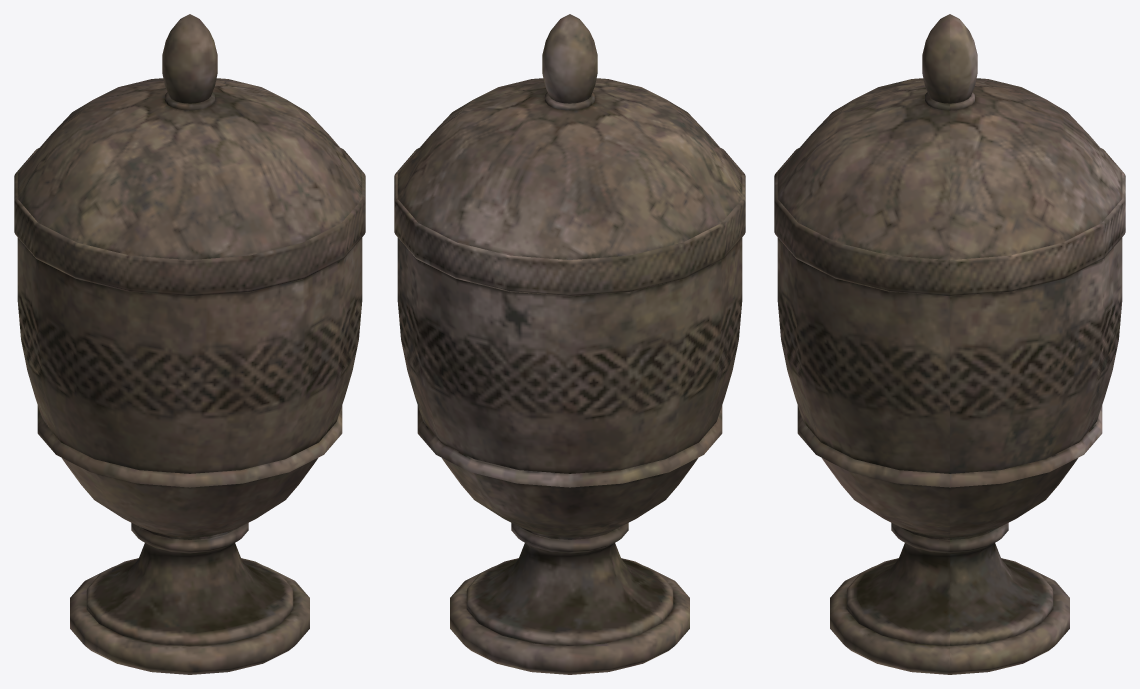
The model's file is SM_urn_05.fbx.
The picture shows the model from 3 angles, left to right: view 1: azimuth 30°, elevation 25°; view 2: azimuth 150°, elevation 25°; view 3: azimuth 270°, elevation 25°; orthographic projection.
Visible parts, largest first — view 1: SM_urn_05; view 2: SM_urn_05; view 3: SM_urn_05.
Part boxes in pixels (bbox=[...]): SM_urn_05: bbox=[14, 14, 365, 674]; SM_urn_05: bbox=[394, 14, 745, 674]; SM_urn_05: bbox=[774, 14, 1125, 674].
Bounding box in the file's own units: 28.11 × 53.26 × 27.68.
